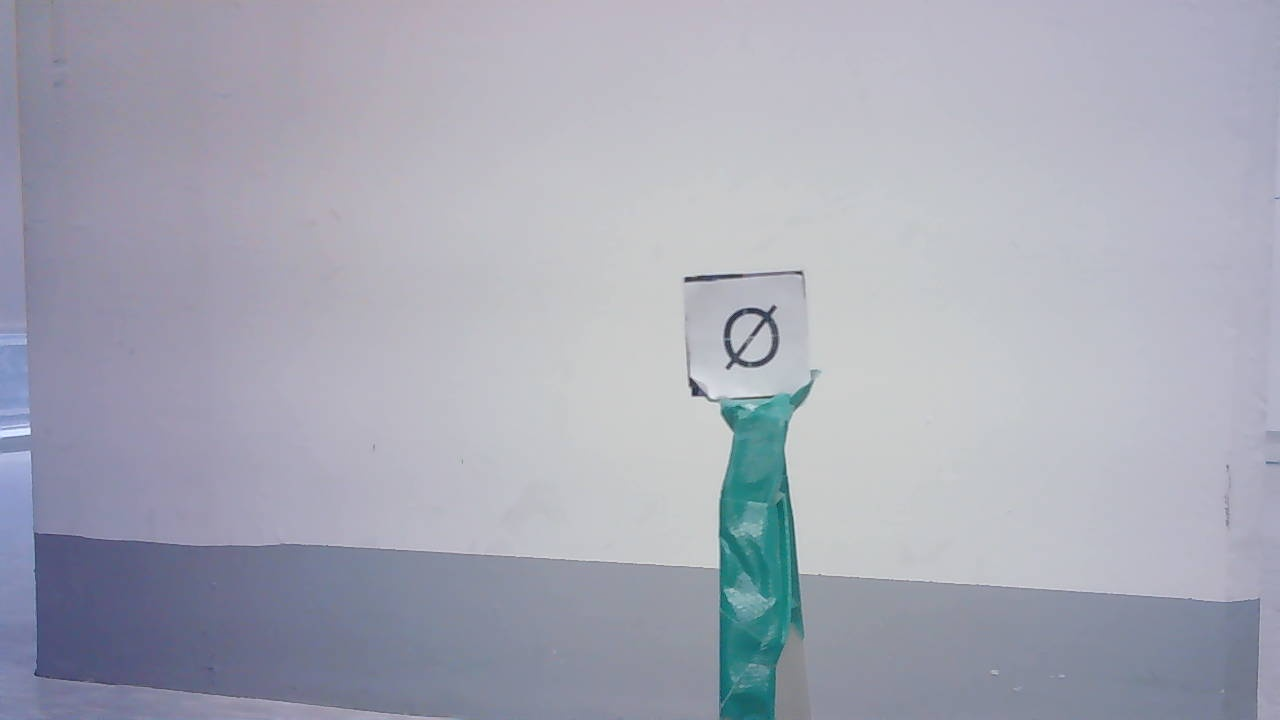box: (674, 269, 819, 405)
